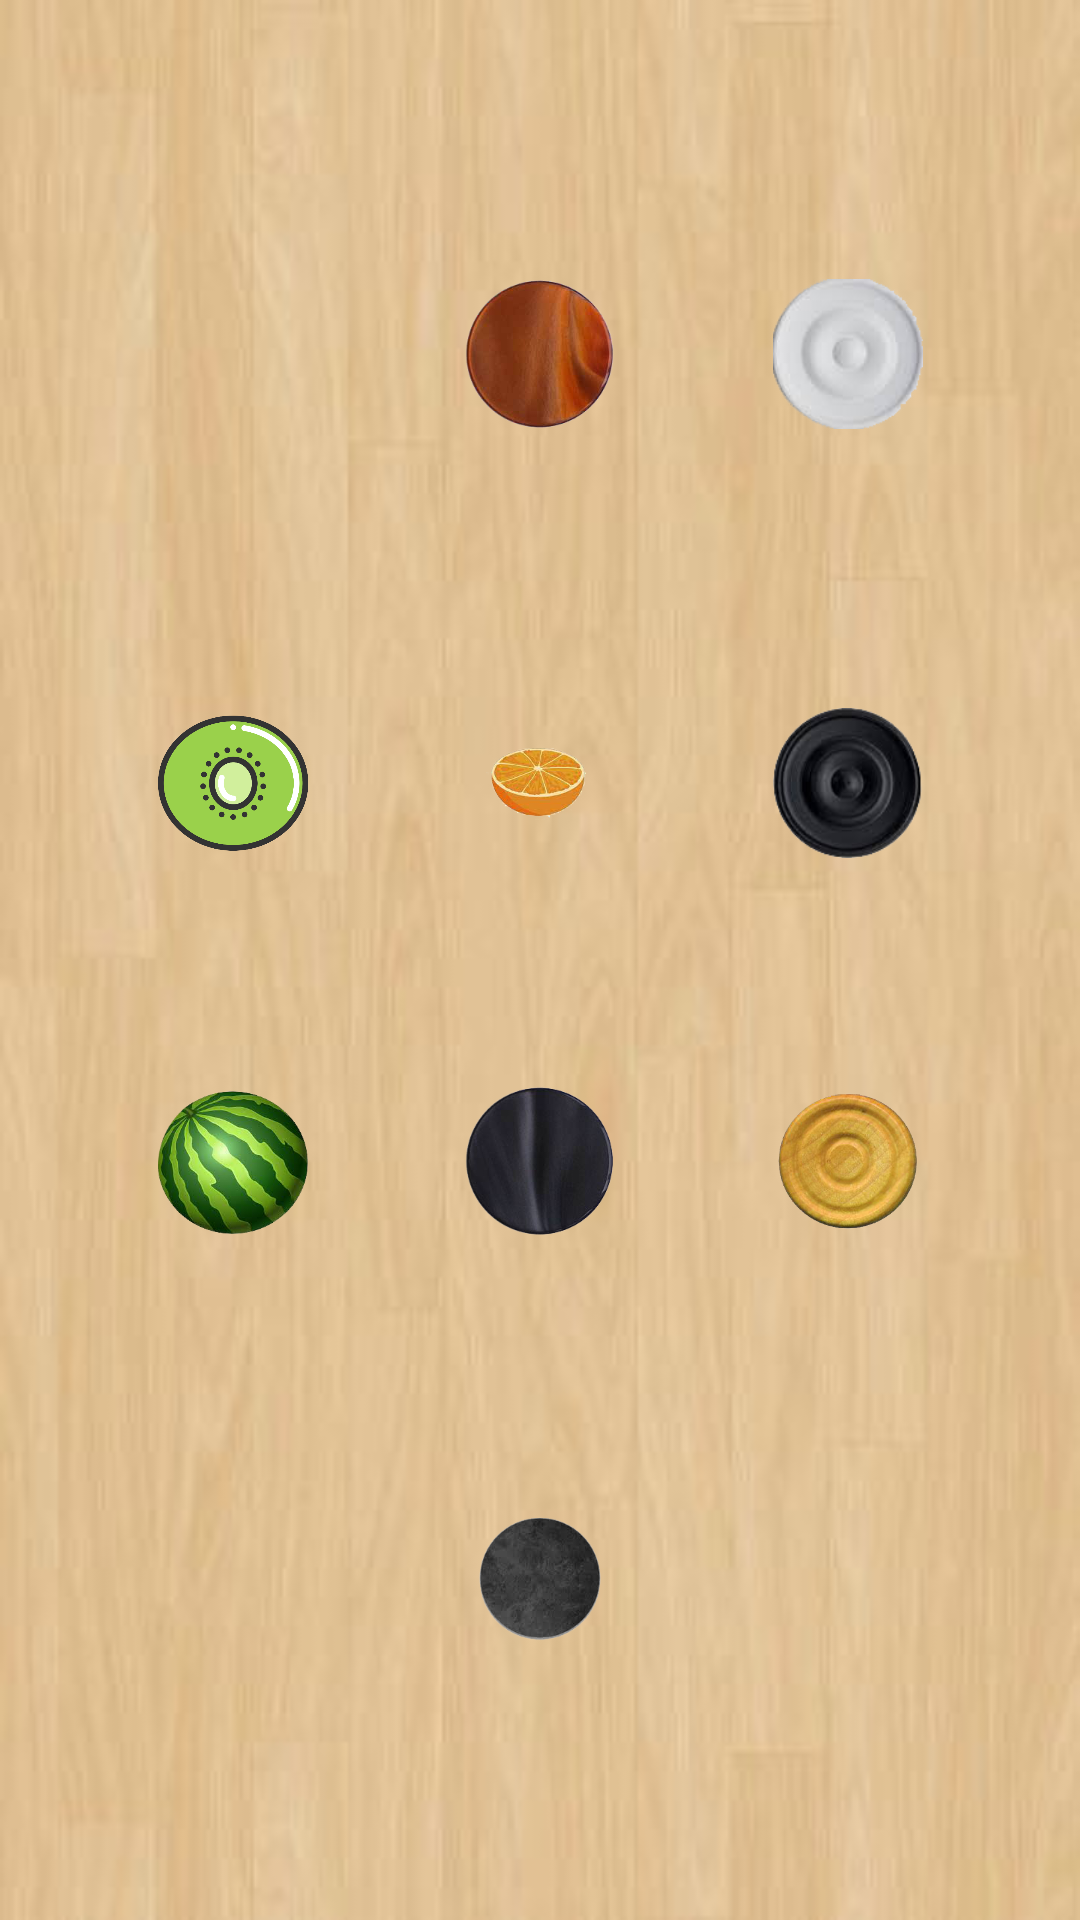

Icons on this 1080×1920 Android screen, each with the point to tap as (x,y):
blackchecker: (847,783)
blackwood: (539,1161)
brownwood: (539,354)
kiwi: (233,783)
watermel: (233,1162)
whitechecker: (848,354)
